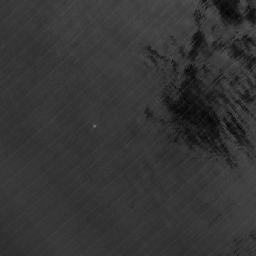Target: (91, 123, 97, 128)
